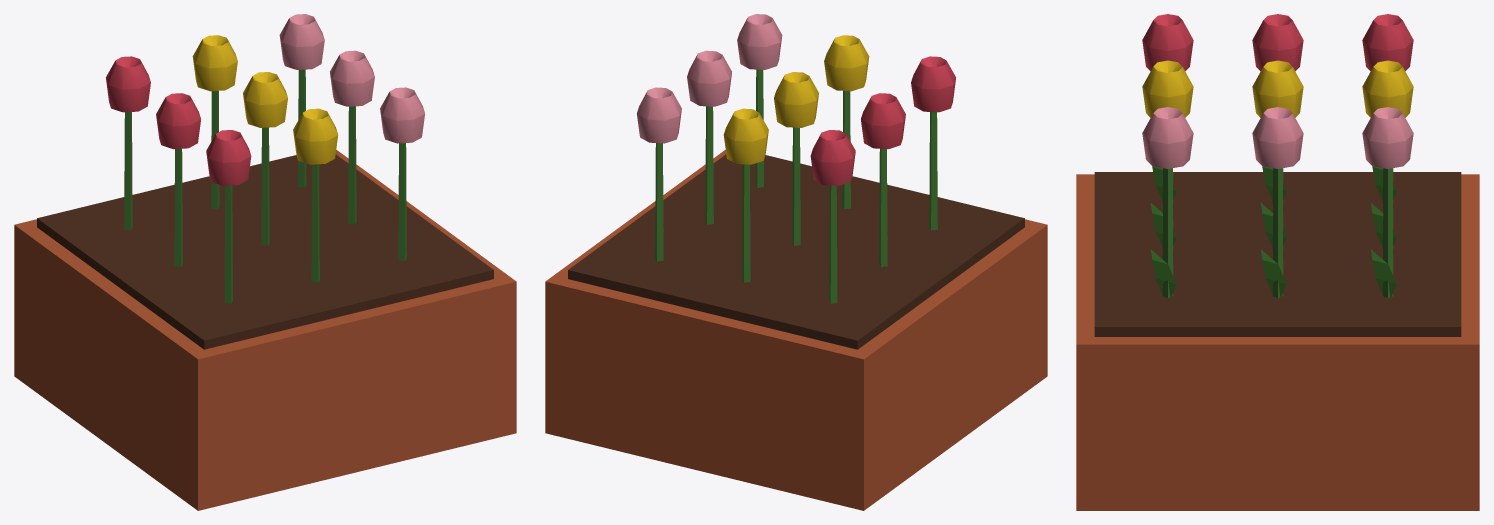
File: tulip_planter.glb
The picture shows the model from 3 angles, left to right: view 1: azimuth 30°, elevation 25°; view 2: azimuth 150°, elevation 25°; view 3: azimuth 270°, elevation 25°; orthographic projection. The views are drawn at different scales.
Visible parts, largest first — view 1: decor-tulip_planter; view 2: decor-tulip_planter; view 3: decor-tulip_planter.
Part boxes in pixels (x1,y1,x2,y2): decor-tulip_planter: (14,14,516,510); decor-tulip_planter: (545,14,1047,510); decor-tulip_planter: (1076,14,1479,510).
Bounding box in the file's own units: 1.1 × 1.08 × 1.1.
